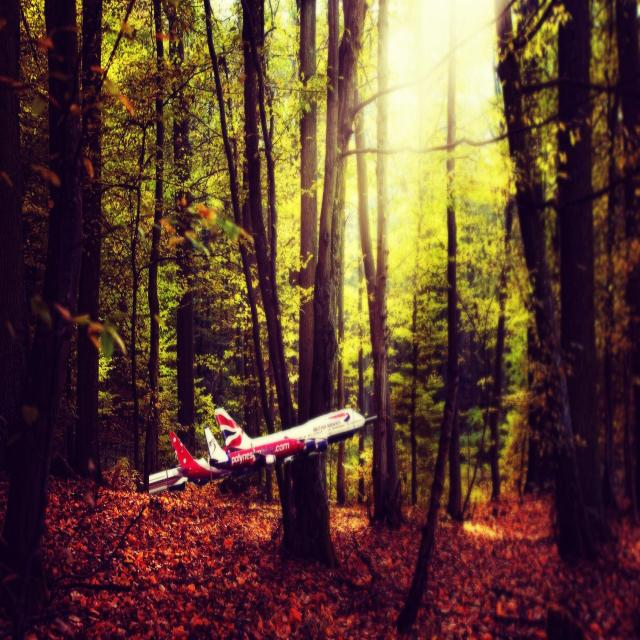airplane: (206, 406, 378, 475)
